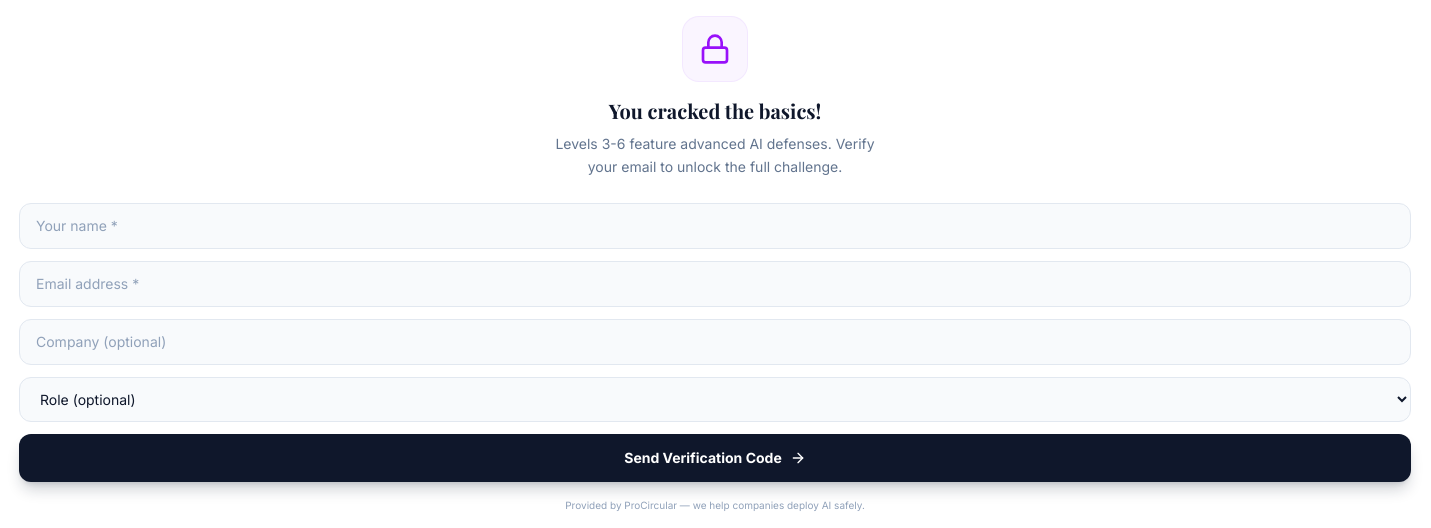
it: LeadGateForm › transitions to step 2 after successful OTP send
Type "John" into the field with placeholder "Your name *" at (715, 226), box [19,202,1411,248]
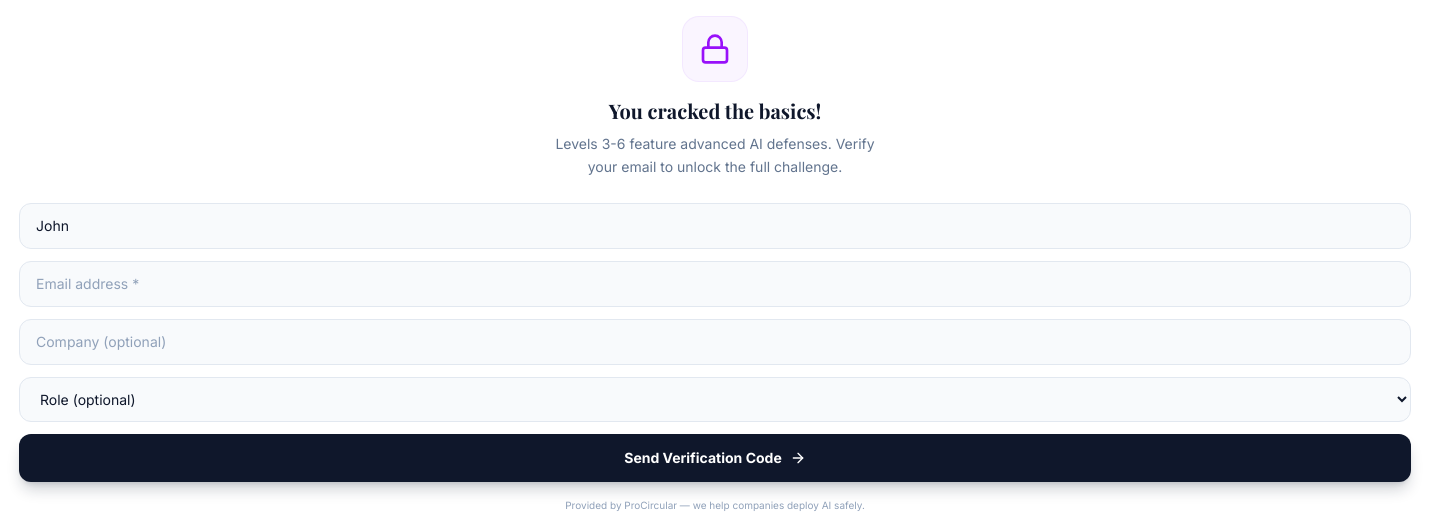
Type "john@test.com" into the field with placeholder "Email address *" at (715, 284), box [19,260,1411,306]
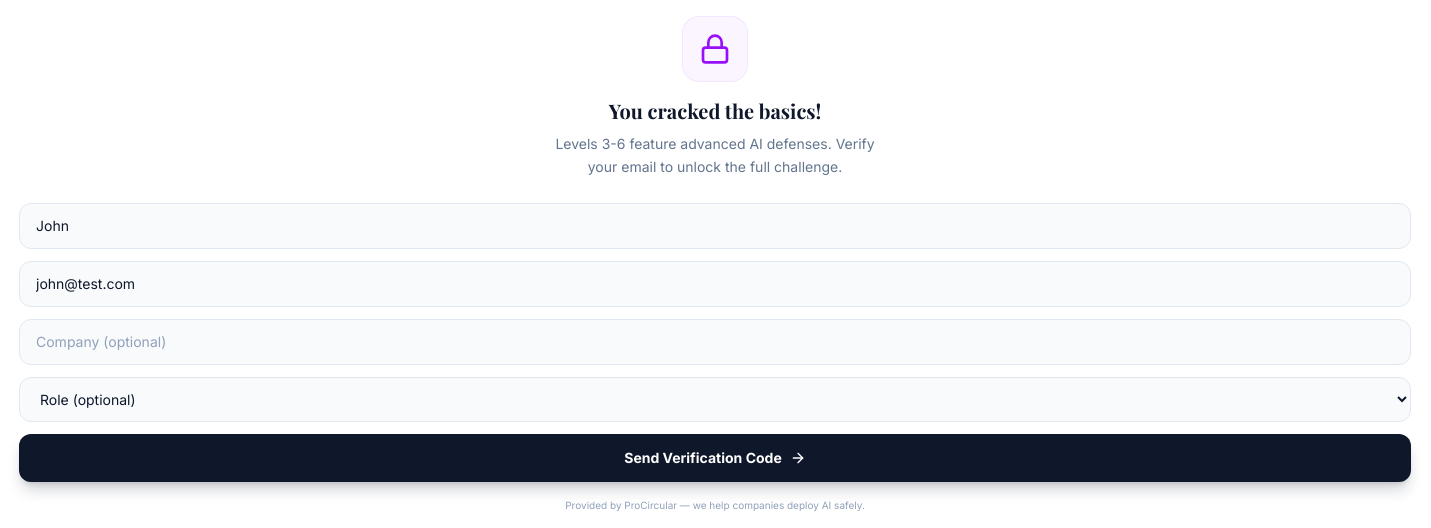
Click the button "Send Verification Code" at (715, 458), box [19,434,1411,482]
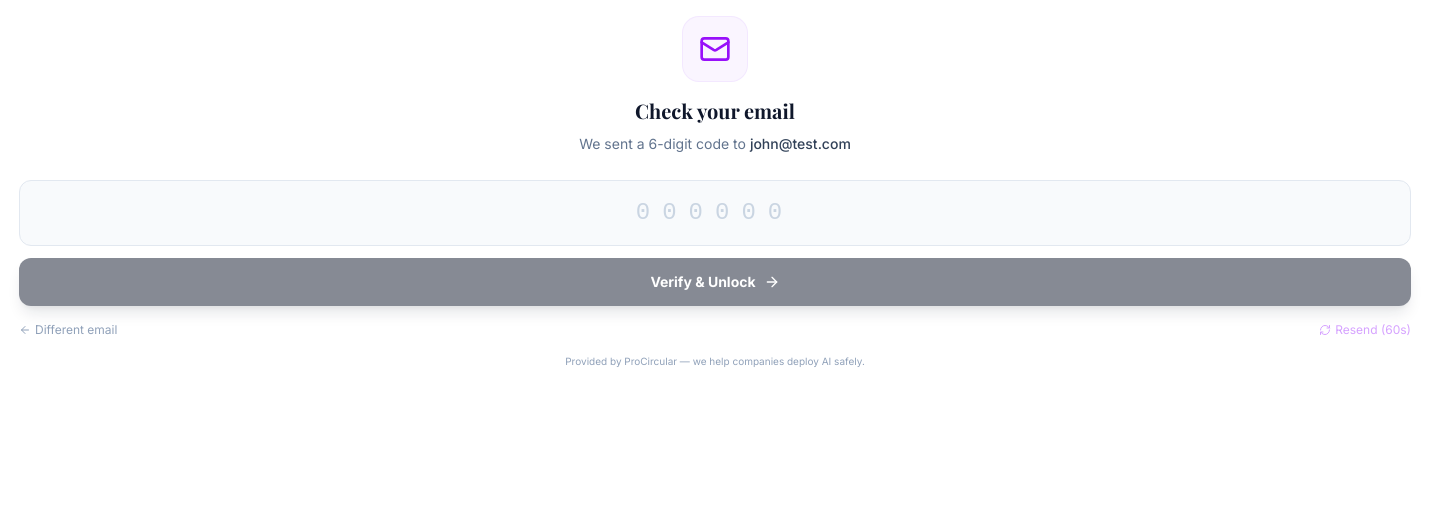
Now the heading "Check your email" is shown, box [635,97,795,124]
Now the text "john@test.com" is shown, box [750,135,851,152]
Now the button "Verify & Unlock" is shown, box [19,258,1411,306]
